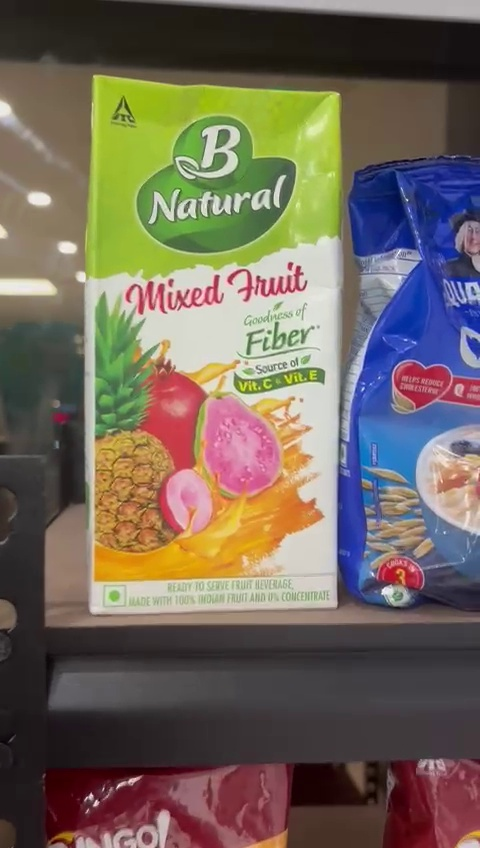Mixed Fruit: (86, 73, 340, 610)
